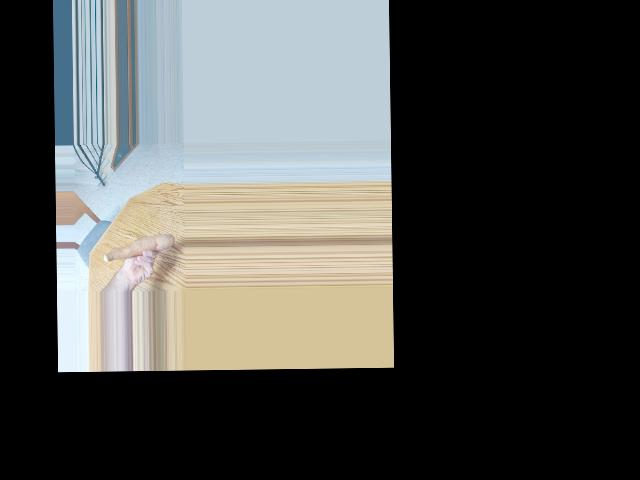sweet_potato: (101, 229, 172, 262)
